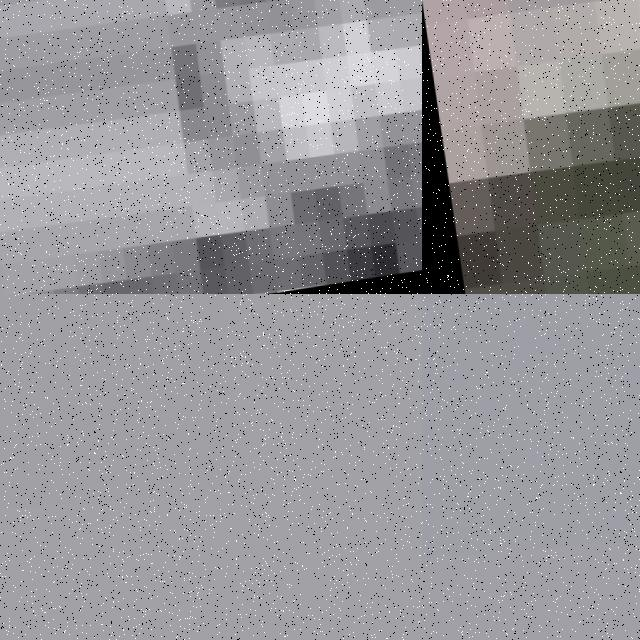0: (0, 0, 422, 294)
drone: (422, 0, 640, 294)
